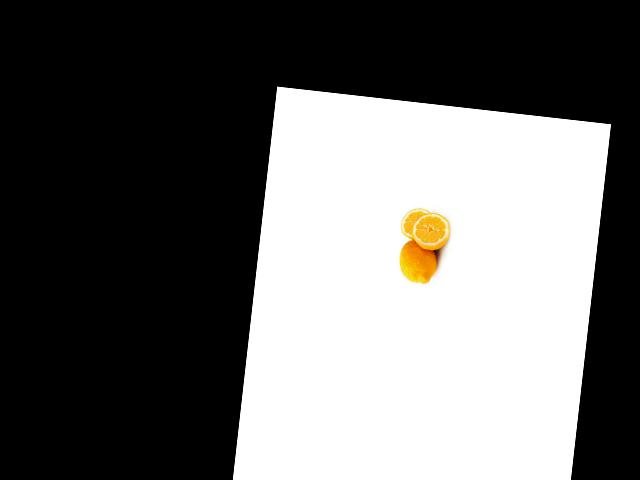lemon: (395, 237, 440, 288)
